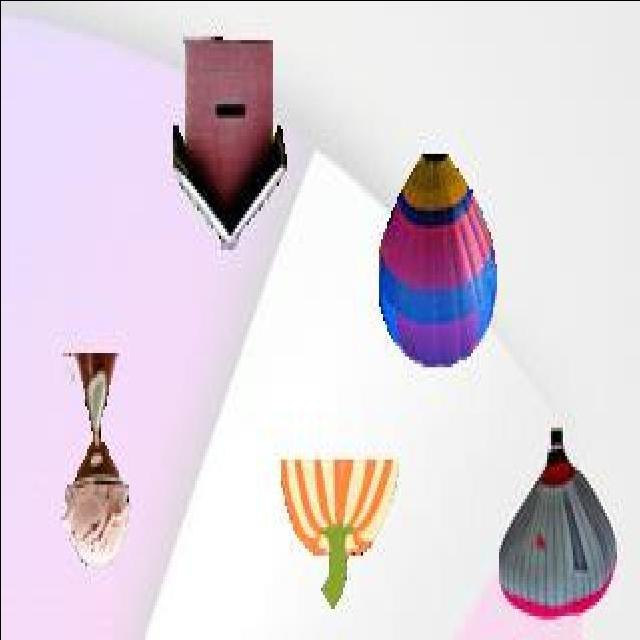Other Objects: (377, 152, 498, 368), (497, 426, 617, 622)
